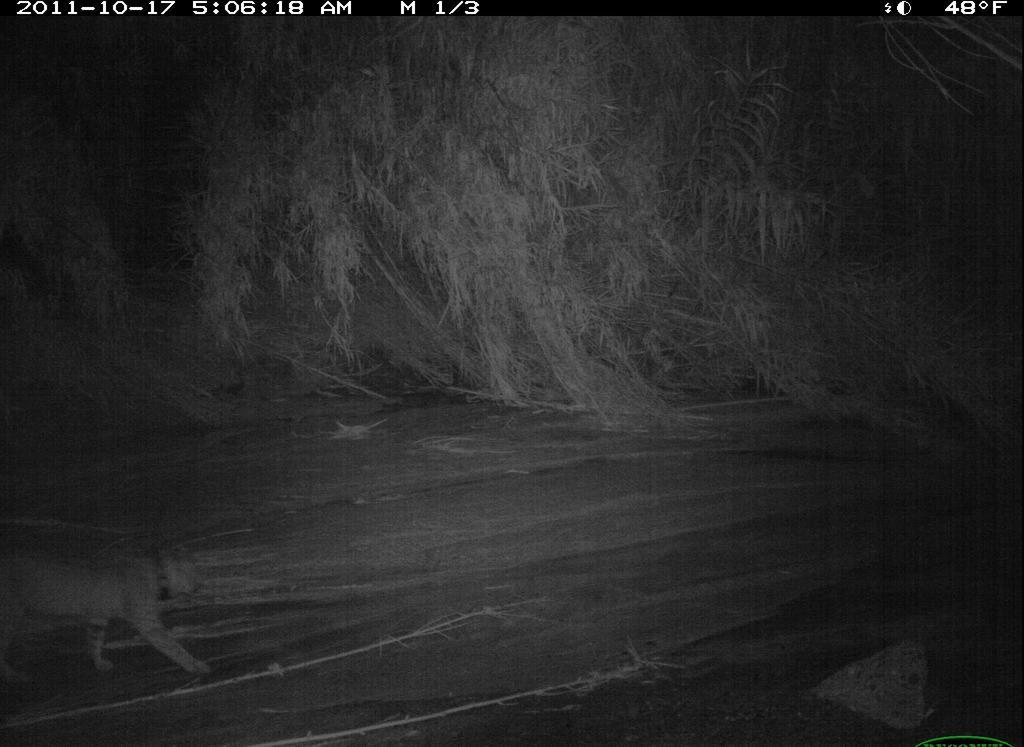bobcat: (3, 518, 228, 701)
